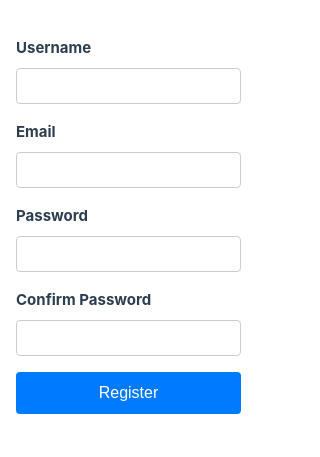
Test: Registration Form Integration Tests › Form State and UI Integration › maintains form state across multiple validation attempts
The width and height of the screenshot is (320, 457).
Note: Fill form with partial valid data
Type "validuser" into the field with id "username". click: (128, 86)
box: [16, 68, 241, 104]
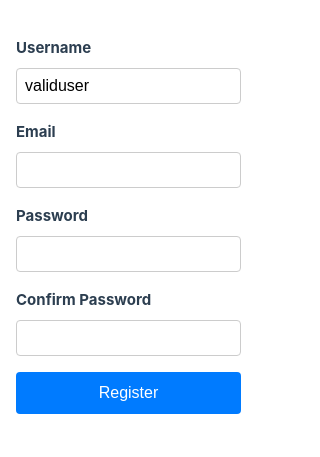
Type "test@example.com" into the field with id "email". click: (128, 170)
box: [16, 152, 241, 188]
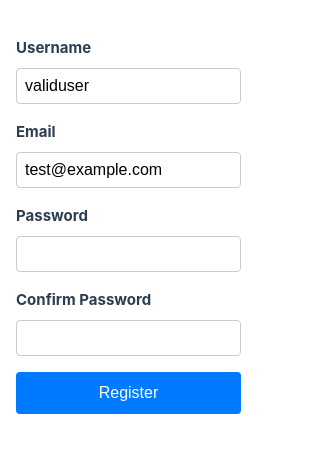
Note: First validation attempt
Submit the form, box [16, 38, 241, 414]
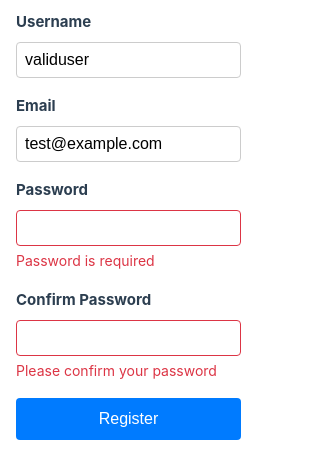
expect the form shows "Password is required": met, box [16, 252, 155, 269]
